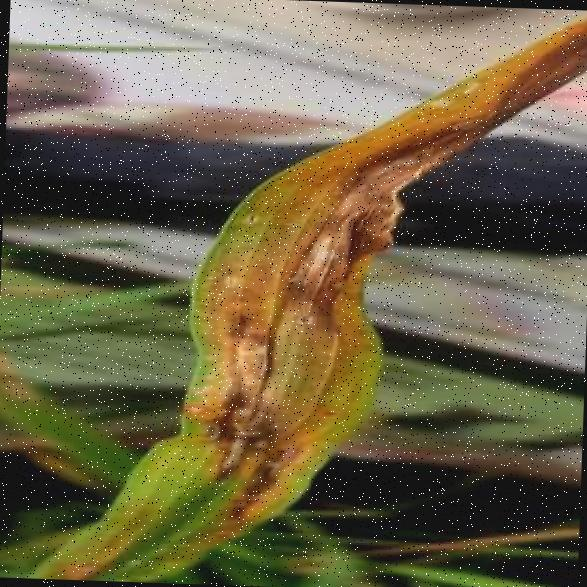Leaf_smut: (287, 143, 447, 320), (202, 412, 318, 508), (164, 373, 275, 467)
